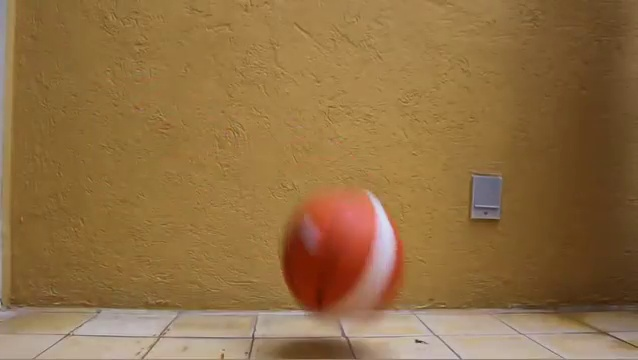ball: (281, 186, 405, 324)
